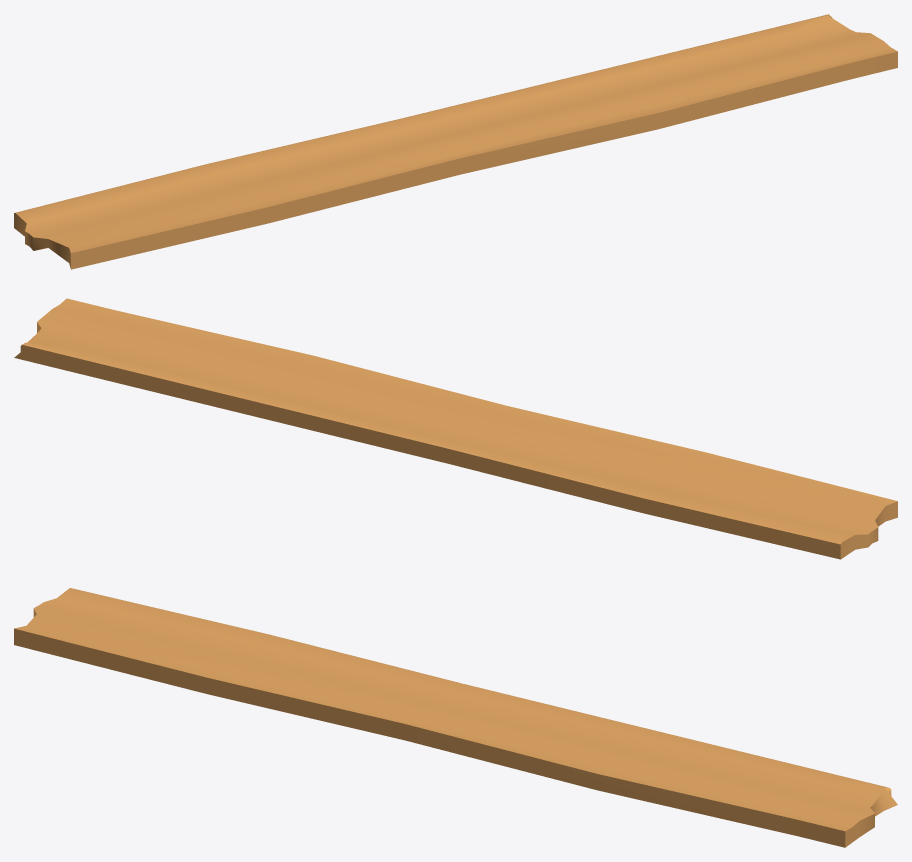
File: Plank1.fbx
3 views of the same model, one above another, from view 1: azimuth 30°, elevation 25°; view 2: azimuth 150°, elevation 25°; view 3: azimuth 330°, elevation 25° (orthographic).
Parts seen in each view (by area): view 1: Cube.005; view 2: Cube.005; view 3: Cube.005.
Boxes of the visible parts, box(x1,y1,x2,y2) form: Cube.005: box(14, 14, 897, 269); Cube.005: box(14, 298, 897, 559); Cube.005: box(14, 588, 897, 847).
Bounding box in the file's own units: 898 × 16.8 × 115.
